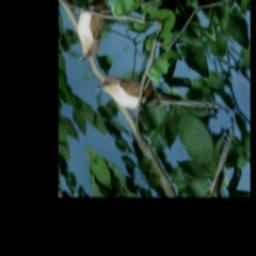Cuckoo: (90, 25, 226, 173)
